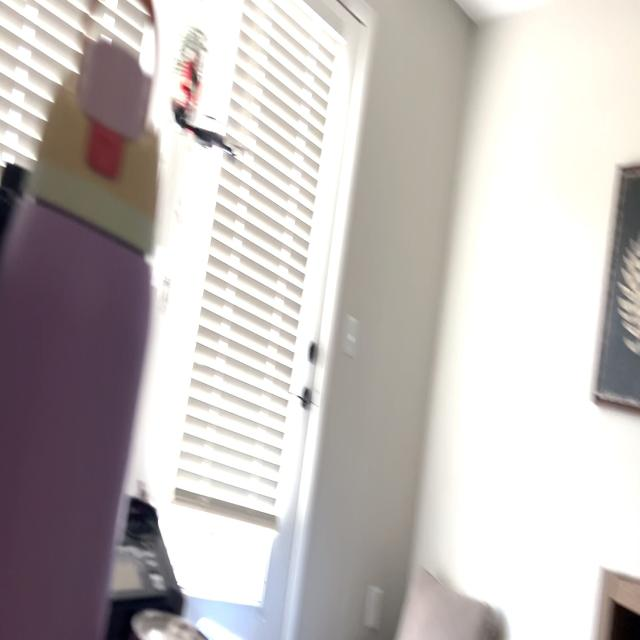drone: (162, 73, 247, 175)
